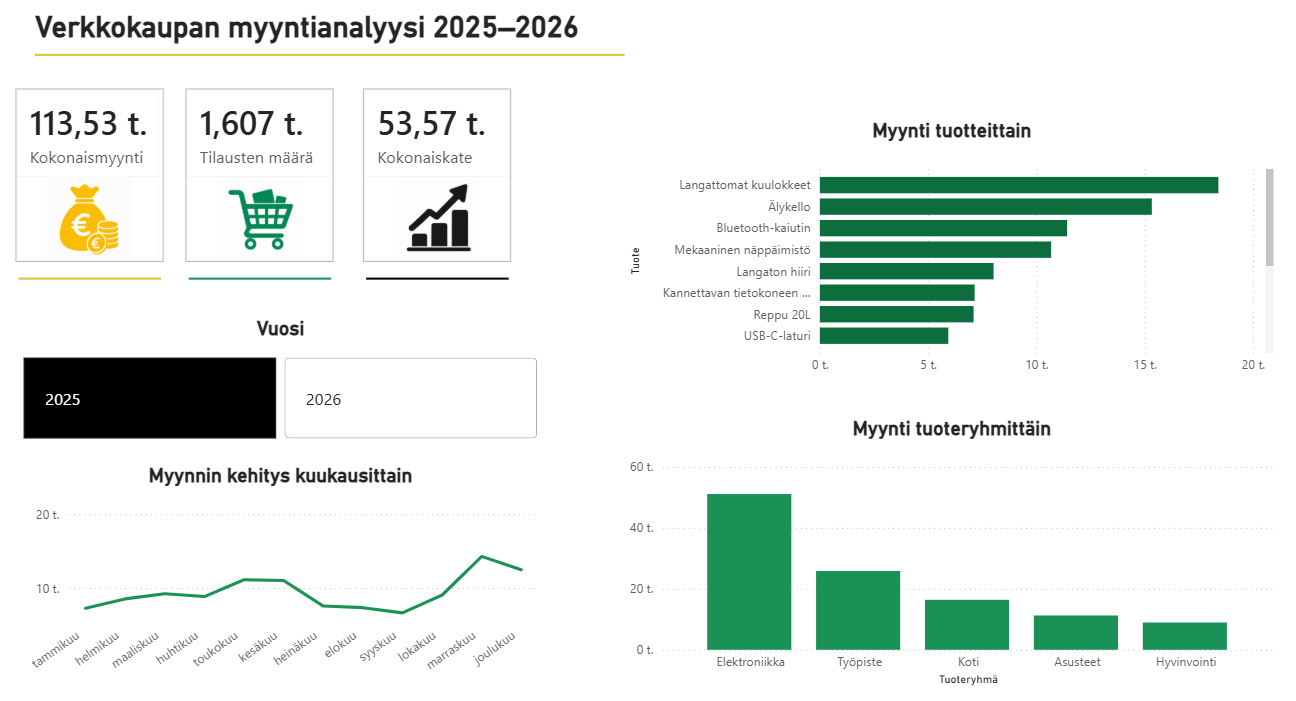

What the dashboard file says about the page in this screenshot:
{"tool":"powerbi","page":{"name":"Sivu 1","canvas":[1280,720],"ordinal":0},"visuals":[{"type":"cardVisual","fields":{"Data":["Sum(VerkkokauppaMyynti.Myynti)"]},"box":[9.8,92.9,175,200.5],"z":0},{"type":"cardVisual","fields":{"Data":["Sum(VerkkokauppaMyynti.Kate)"]},"box":[349.7,92.9,175,200],"z":1000},{"type":"cardVisual","fields":{"Data":["Count(VerkkokauppaMyynti.TilausID)"]},"box":[176.1,92.9,175,200.5],"z":2000},{"type":"advancedSlicerVisual","fields":{"Values":["VerkkokauppaMyynti.Tilauspäivä.Vaihtelu.Päivämäärähierarkia.Vuosi"]},"box":[28.1,331.4,512.4,124.7],"z":3000},{"type":"clusteredBarChart","title":"Myynti tuotteittain","fields":{"Category":["VerkkokauppaMyynti.Tuote"],"Y":["Sum(VerkkokauppaMyynti.Myynti)"]},"box":[621.2,138.2,639.5,258],"z":4000},{"type":"clusteredColumnChart","title":"Myynti tuoteryhmittäin","fields":{"Category":["VerkkokauppaMyynti.Tuoteryhmä"],"Y":["Sum(VerkkokauppaMyynti.Myynti)"]},"box":[621.2,429.2,639.5,267.8],"z":5000},{"type":"textbox","box":[9.8,25.7,593.1,51.4],"z":6000},{"type":"shape","box":[44,48.9,577.2,52.6],"z":6001},{"type":"shape","box":[28.1,267.8,139.4,52.6],"z":6002},{"type":"shape","box":[194.4,267.8,139.4,52.6],"z":6003},{"type":"shape","box":[368.1,267.8,139.4,52.6],"z":6004},{"type":"lineChart","title":"Myynnin kehitys kuukausittain","fields":{"Category":["VerkkokauppaMyynti.Tilauspäivä.Vaihtelu.Päivämäärähierarkia.Vuosi","VerkkokauppaMyynti.Tilauspäivä.Vaihtelu.Päivämäärähierarkia.Vuosineljännes","VerkkokauppaMyynti.Tilauspäivä.Vaihtelu.Päivämäärähierarkia.Kuukausi","VerkkokauppaMyynti.Tilauspäivä.Vaihtelu.Päivämäärähierarkia.Päivä"],"Y":["Sum(VerkkokauppaMyynti.Myynti)"]},"box":[28.1,475.7,512.4,221.3],"z":6005}]}

Visuals, with their boxes on the page's 1280x720 design canvas (x1, y1, x2, y2). These are canvas units, not pixel positions in the 1296x701 screenshot, which may show the page scaled, cropped or inside an application window:
cardVisual - Sum(VerkkokauppaMyynti.Myynti): <box>10,93,185,293</box>
cardVisual - Sum(VerkkokauppaMyynti.Kate): <box>350,93,525,293</box>
cardVisual - Count(VerkkokauppaMyynti.TilausID): <box>176,93,351,293</box>
advancedSlicerVisual - VerkkokauppaMyynti.Tilauspäivä.Vaihtelu.Päivämäärähierarkia.Vuosi: <box>28,331,540,456</box>
"Myynti tuotteittain" clusteredBarChart: <box>621,138,1261,396</box>
"Myynti tuoteryhmittäin" clusteredColumnChart: <box>621,429,1261,697</box>
textbox: <box>10,26,603,77</box>
shape: <box>44,49,621,102</box>
shape: <box>28,268,168,320</box>
shape: <box>194,268,334,320</box>
shape: <box>368,268,508,320</box>
"Myynnin kehitys kuukausittain" lineChart: <box>28,476,540,697</box>
